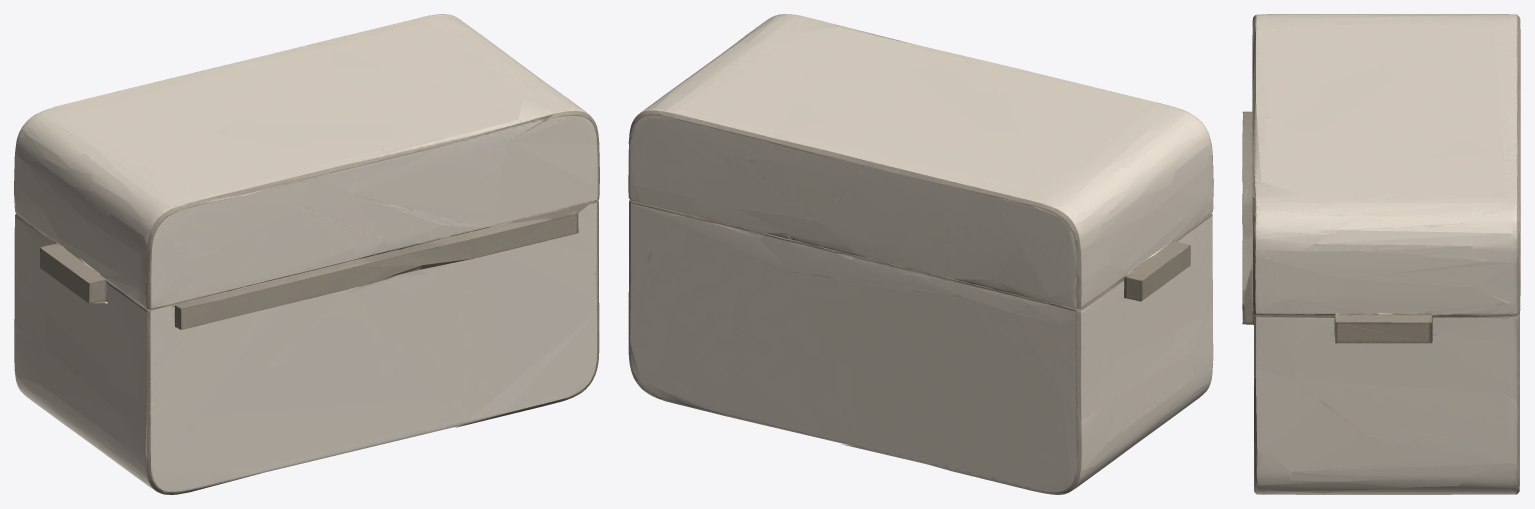
Rendered from storage_box.glb.
3 views of the same model, side by side, from view 1: azimuth 30°, elevation 25°; view 2: azimuth 150°, elevation 25°; view 3: azimuth 270°, elevation 25° (orthographic).
Size of the model in its own units: 1.9 by 1.08 by 0.9509.
1 material, 1 textured.
